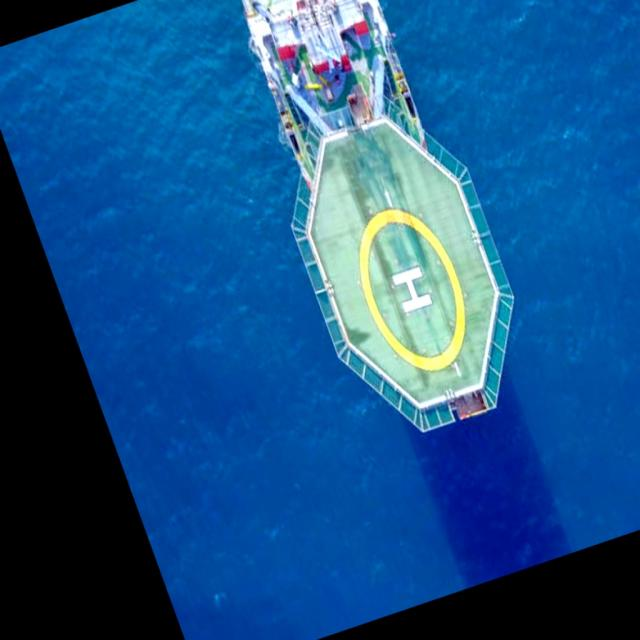helipad: (354, 204, 464, 373)
